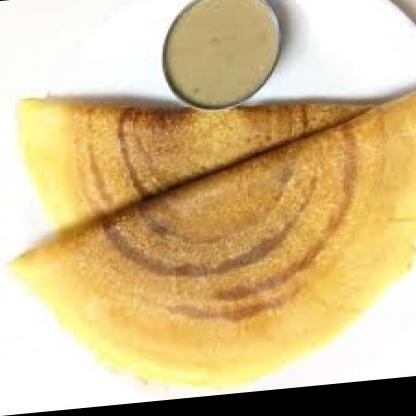dosa: (5, 100, 416, 411), (17, 72, 378, 244)
